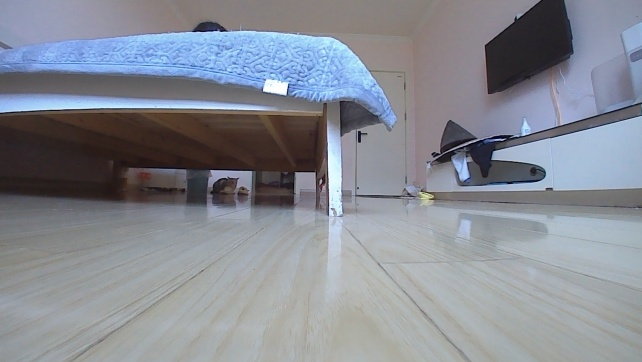TV_stand: (416, 100, 641, 209)
bed1: (0, 27, 400, 220)
cat: (208, 175, 253, 199)
door_anno: (352, 67, 412, 198)
